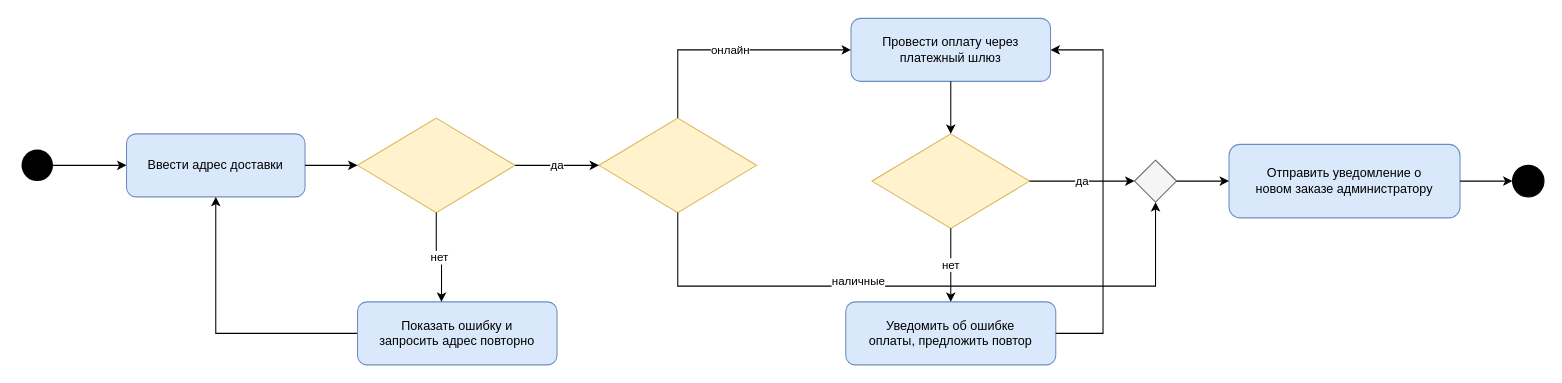
Some shapes in this 1562 by 383 pixel diagram are drawn without their labels. The centre of each missing label's shape, as x and y in pixels:
"Адрес корректен и в зоне доставки?" belongs at point 435,165.
"Платеж успешен?" belongs at point 950,180.
"Способ оплаты?" belongs at point 677,165.
